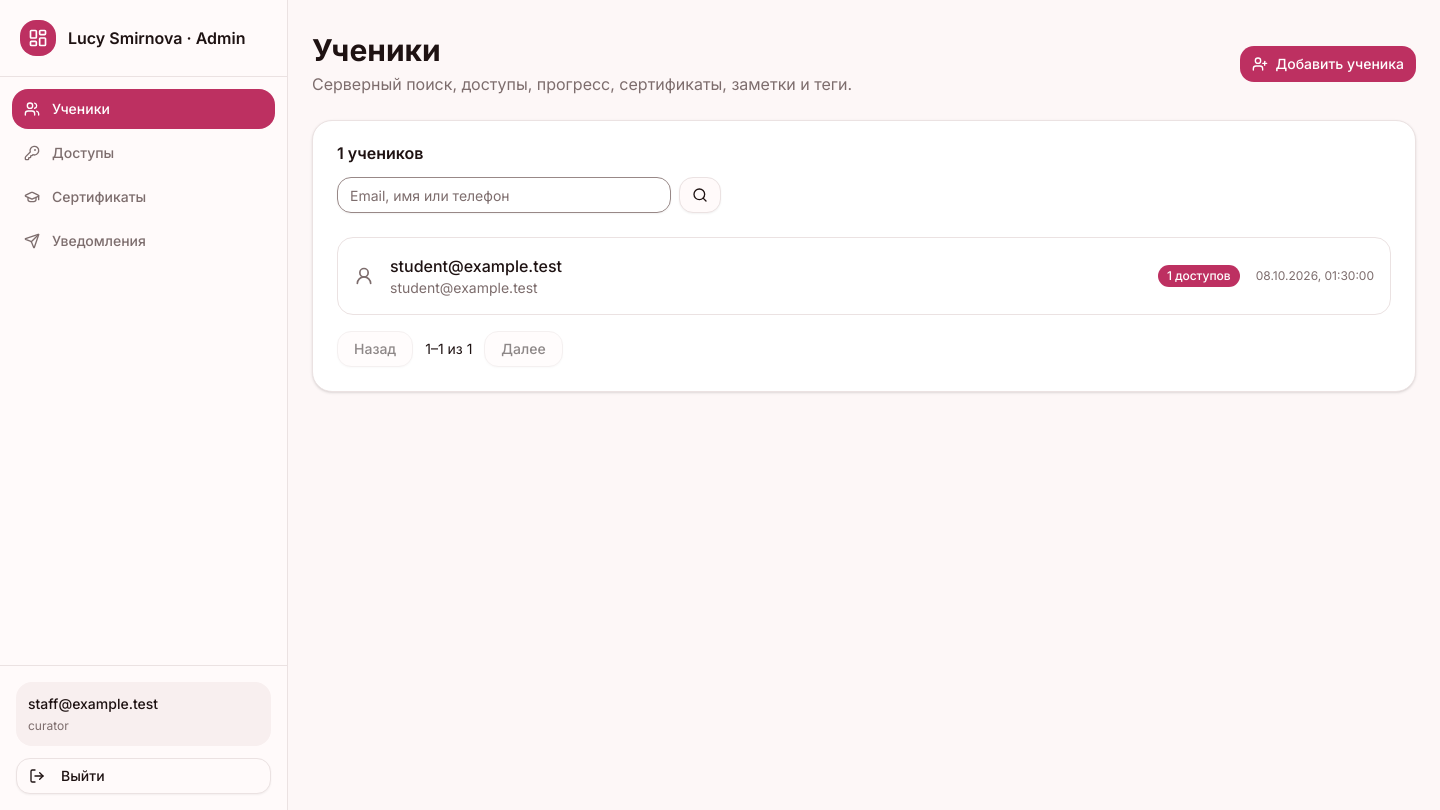
admin operational permissions › hides users.manage mutations from curator while allowing course access
What coordinates should you click on to do the following:
click the button "student@example.test"
I would click on:
 (476, 266)
Its box is left=338, top=238, right=1390, bottom=314.
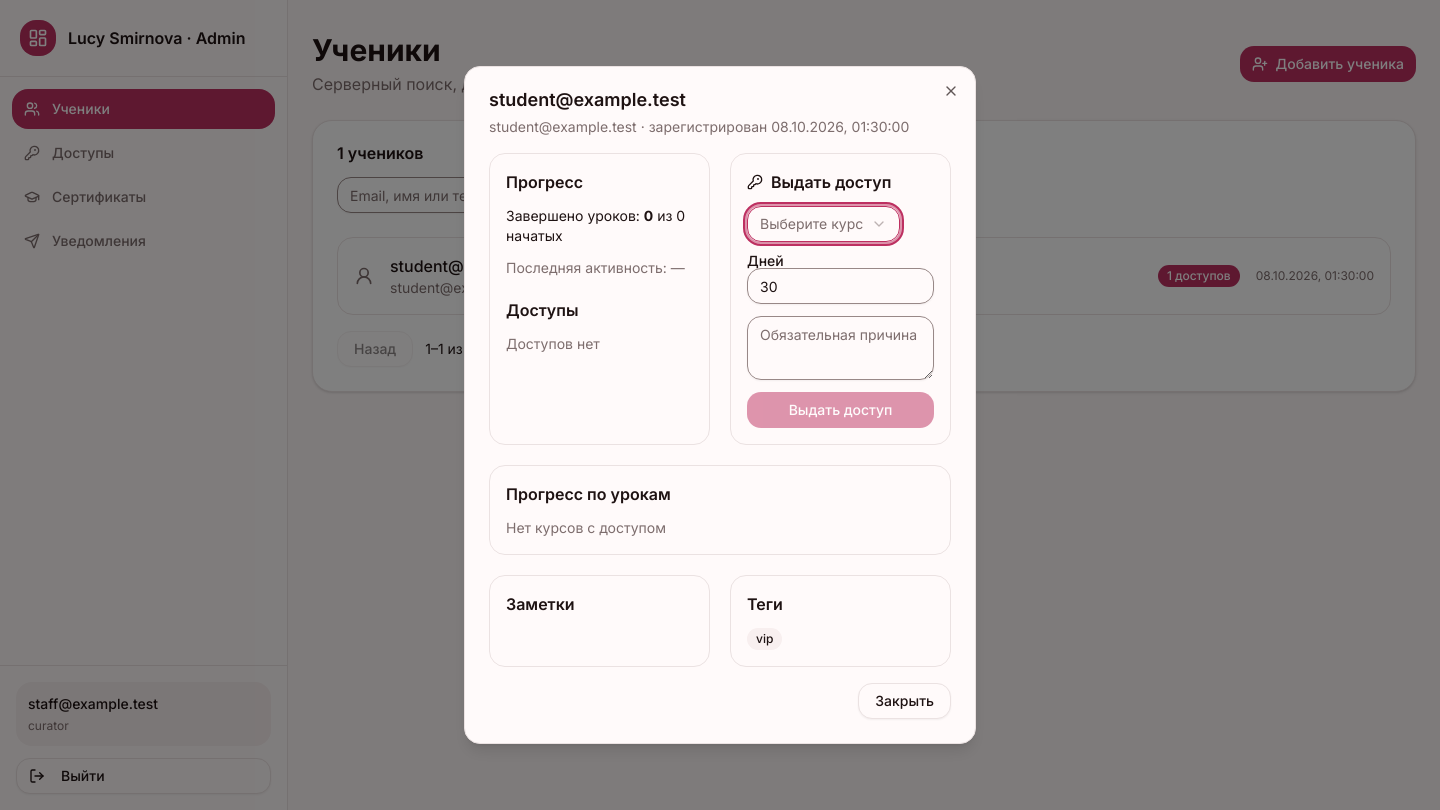
Check: the heading "Выдать доступ" is shown, box left=747, top=172, right=891, bottom=192
